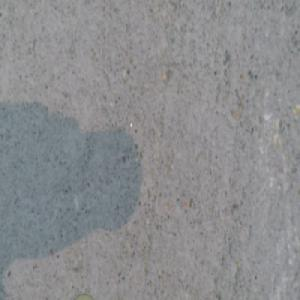Washer: (74, 286, 95, 300)
